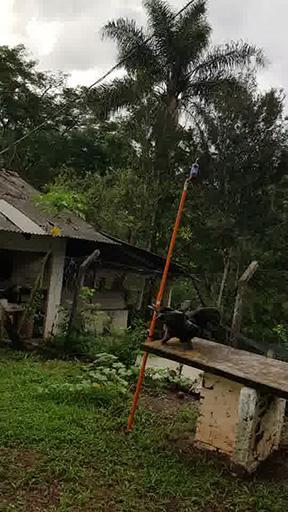Vara_Manobra: (128, 182, 188, 430)
